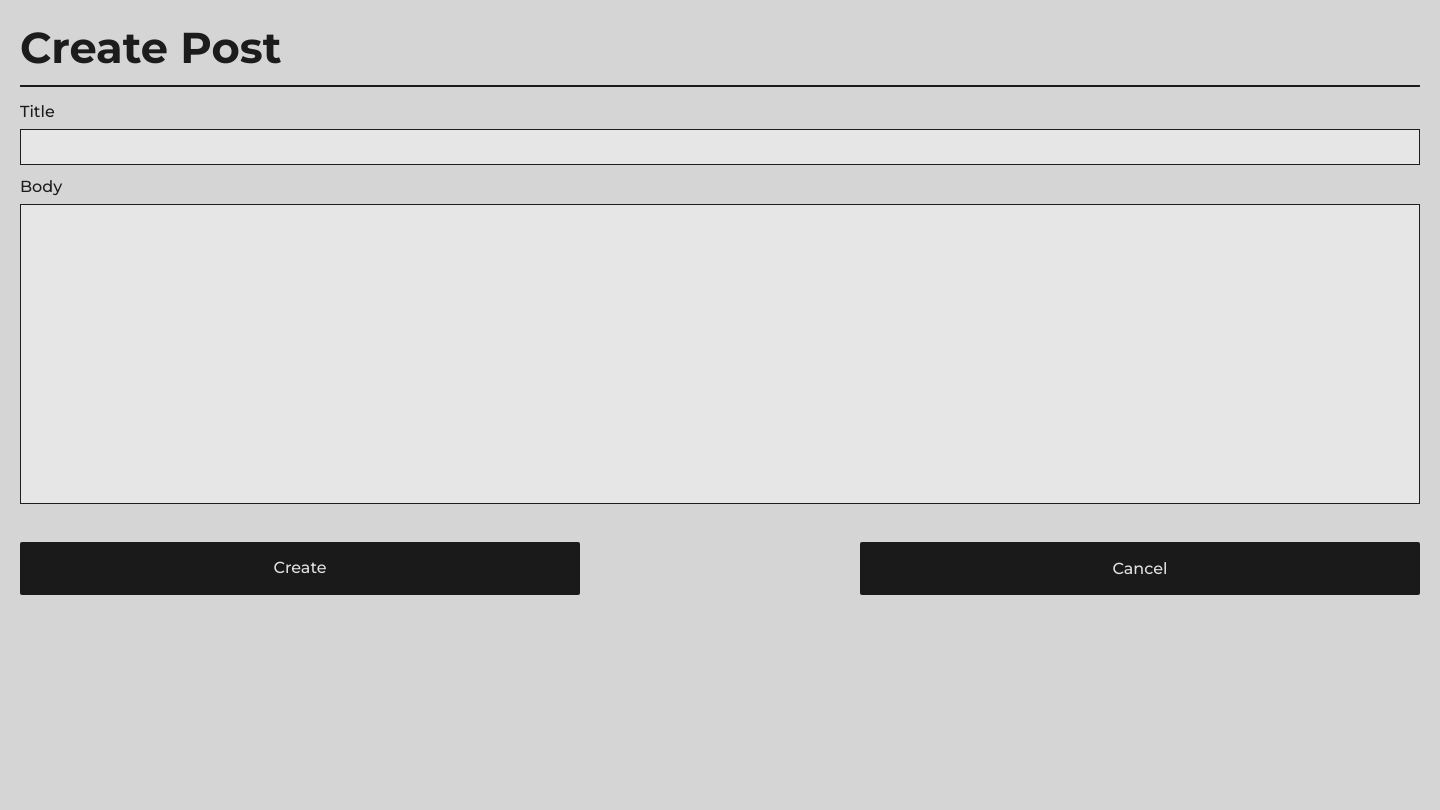
Scenario: CreatePost › should show success alert when submitData is successful
Type "Test title" into the field at (720, 147), box [20,129,1420,165]
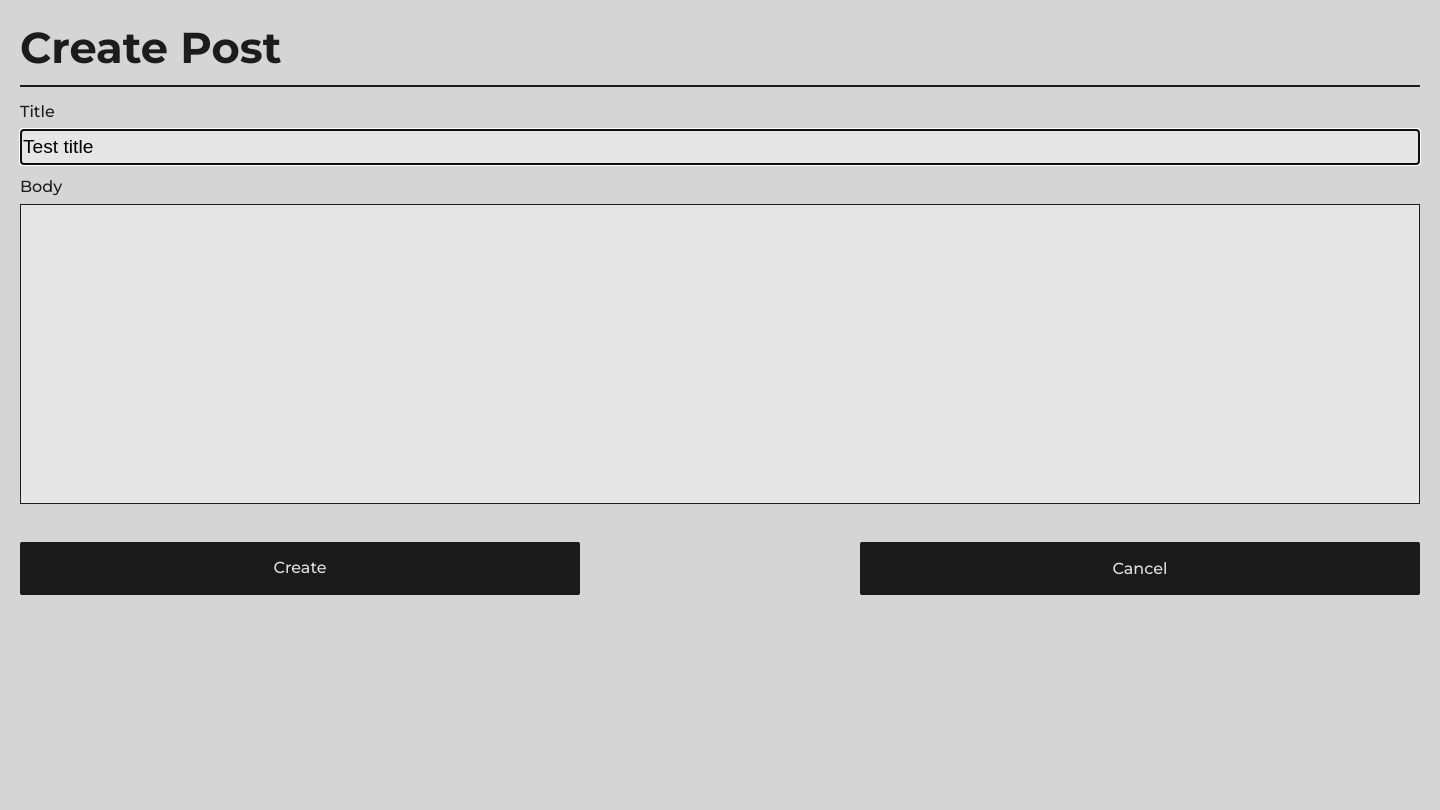
Type "Test body" into the text box at (720, 354), box [20,204,1420,504]
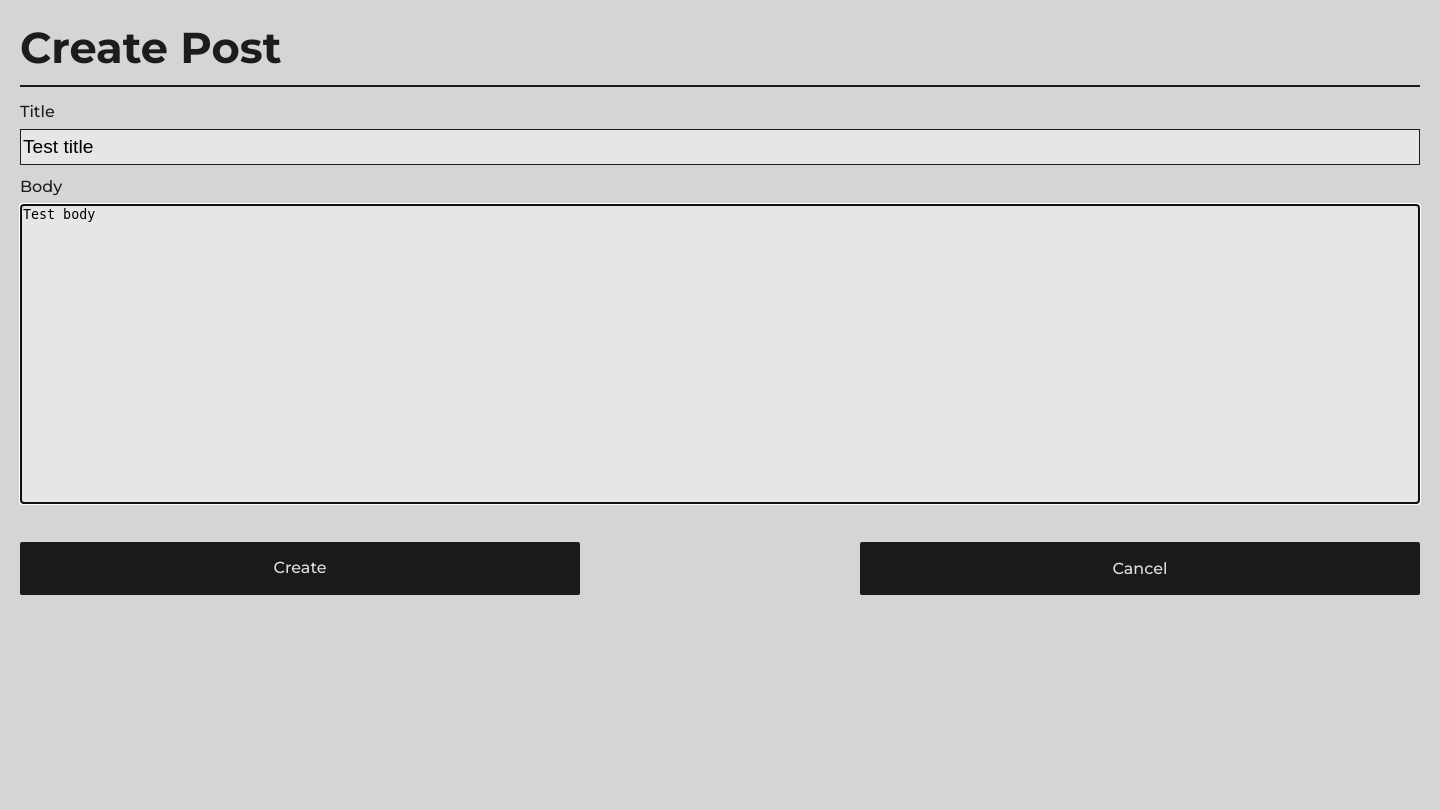
Click the button "Create" at (300, 568), box [20,542,580,595]
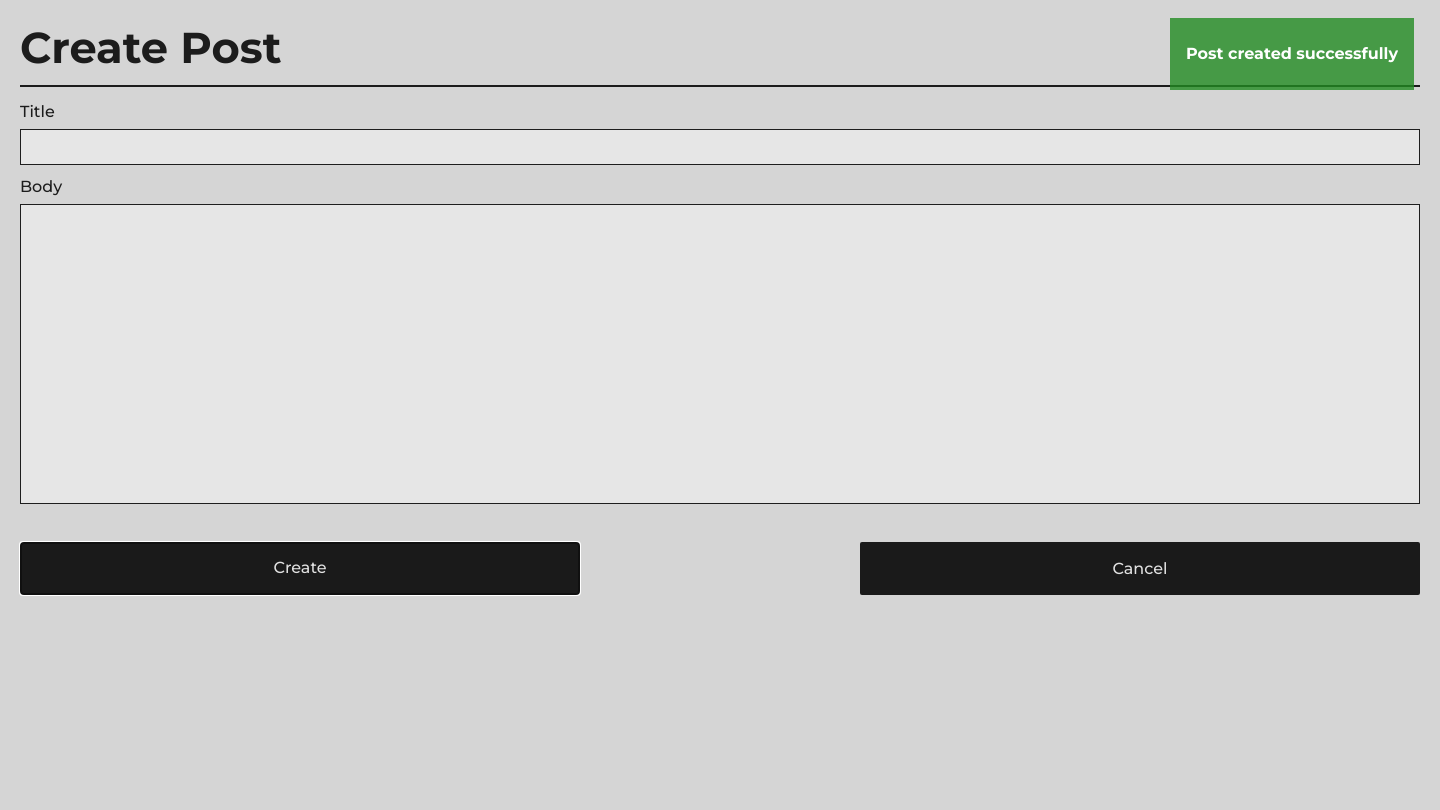
Expected: the text "Post created successfully" is shown, [1186,42,1398,66]
